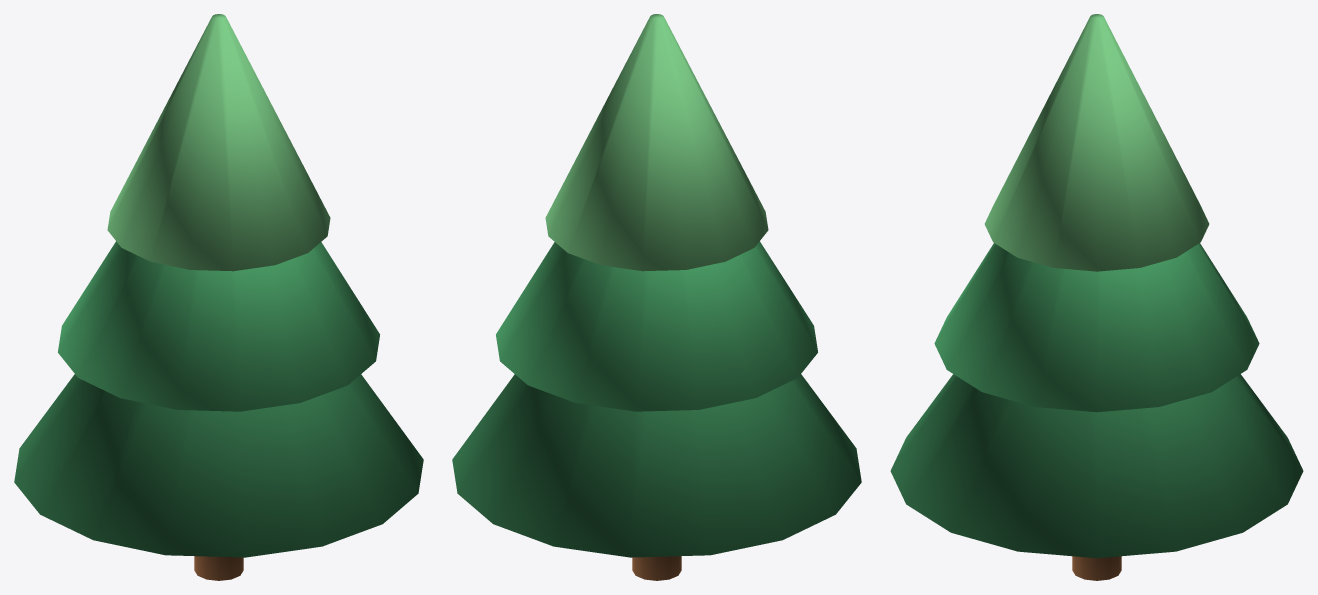
The model's file is LakesidePineHiFi.fbx.
3 renders of one model, left to right at view 1: azimuth 30°, elevation 25°; view 2: azimuth 150°, elevation 25°; view 3: azimuth 270°, elevation 25°, orthographic.
Parts seen in each view (by area): view 1: MobilePine_Lower, MobilePine_Middle, MobilePine_Upper, MobilePine_Trunk; view 2: MobilePine_Lower, MobilePine_Middle, MobilePine_Upper, MobilePine_Trunk; view 3: MobilePine_Lower, MobilePine_Middle, MobilePine_Upper, MobilePine_Trunk.
Part boxes in pixels (<box>): MobilePine_Lower: <box>14,374,423,557</box>; MobilePine_Middle: <box>58,241,379,411</box>; MobilePine_Upper: <box>107,14,330,271</box>; MobilePine_Trunk: <box>194,556,243,580</box>; MobilePine_Lower: <box>452,374,861,557</box>; MobilePine_Middle: <box>496,241,817,411</box>; MobilePine_Upper: <box>545,14,768,271</box>; MobilePine_Trunk: <box>632,556,681,580</box>; MobilePine_Lower: <box>890,374,1303,558</box>; MobilePine_Middle: <box>934,243,1259,412</box>; MobilePine_Upper: <box>984,14,1209,271</box>; MobilePine_Trunk: <box>1072,556,1121,580</box>.
Bounding box in the file's own units: 4.7 × 6.95 × 4.7.
